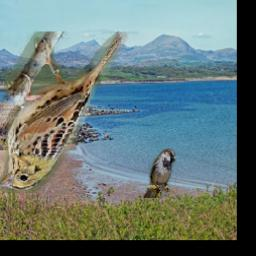Sparrow: (0, 32, 130, 193), (143, 149, 175, 198)
